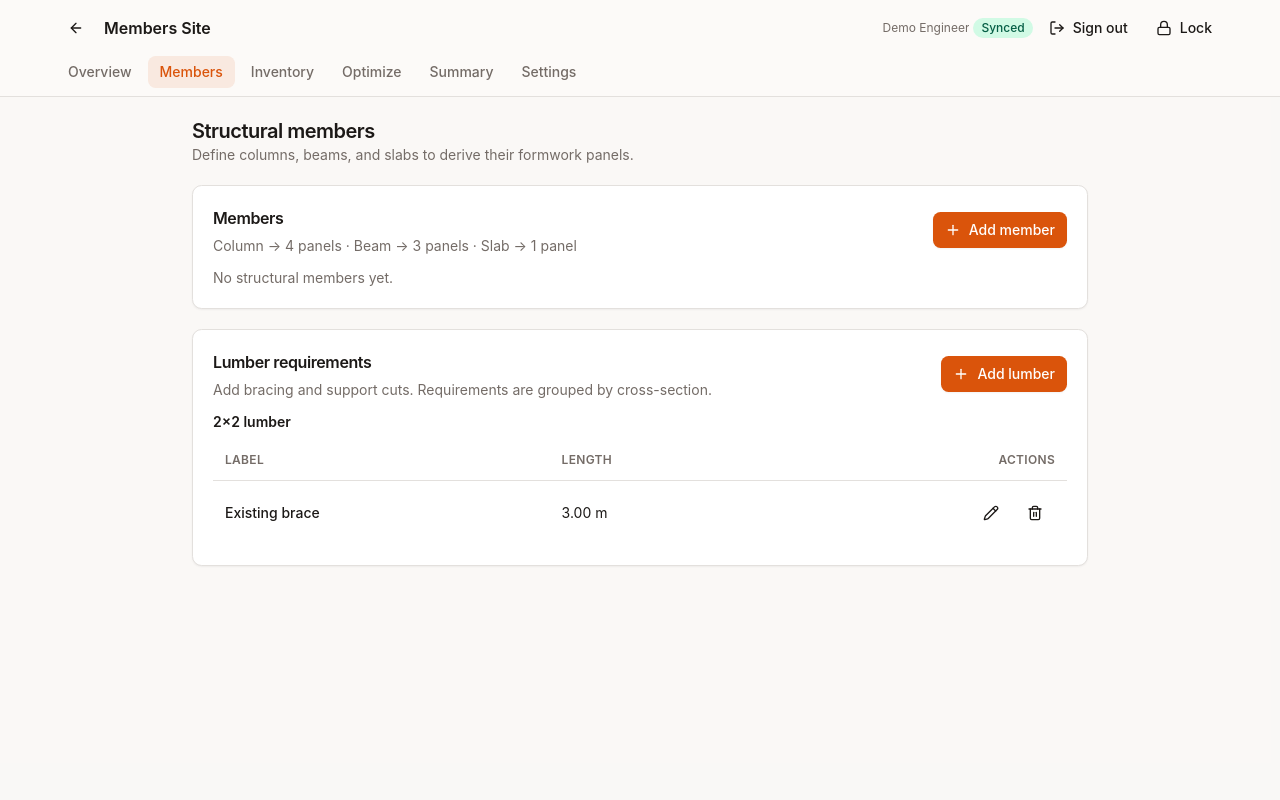
it: StructuralMembersScreen › adds lumber requirements and groups them by cross-section
Expected: the heading "Structural members" is shown, top-left (192, 119), bottom-right (375, 143)
Click the button "Add lumber".
click(1004, 374)  # box top-left (942, 356), bottom-right (1067, 392)
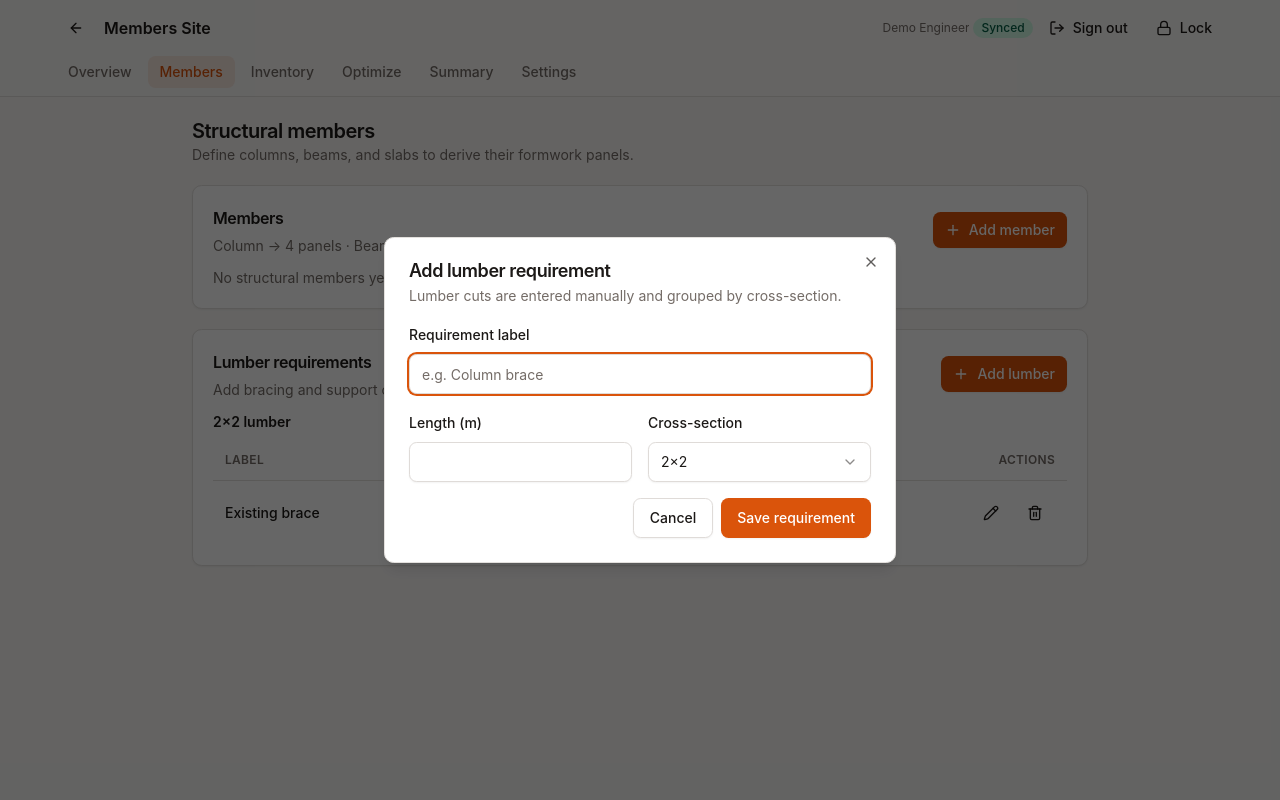
Type "Brace A" into the field labelled "Requirement label".
click(640, 374); type("Brace A")  # box top-left (409, 354), bottom-right (871, 394)
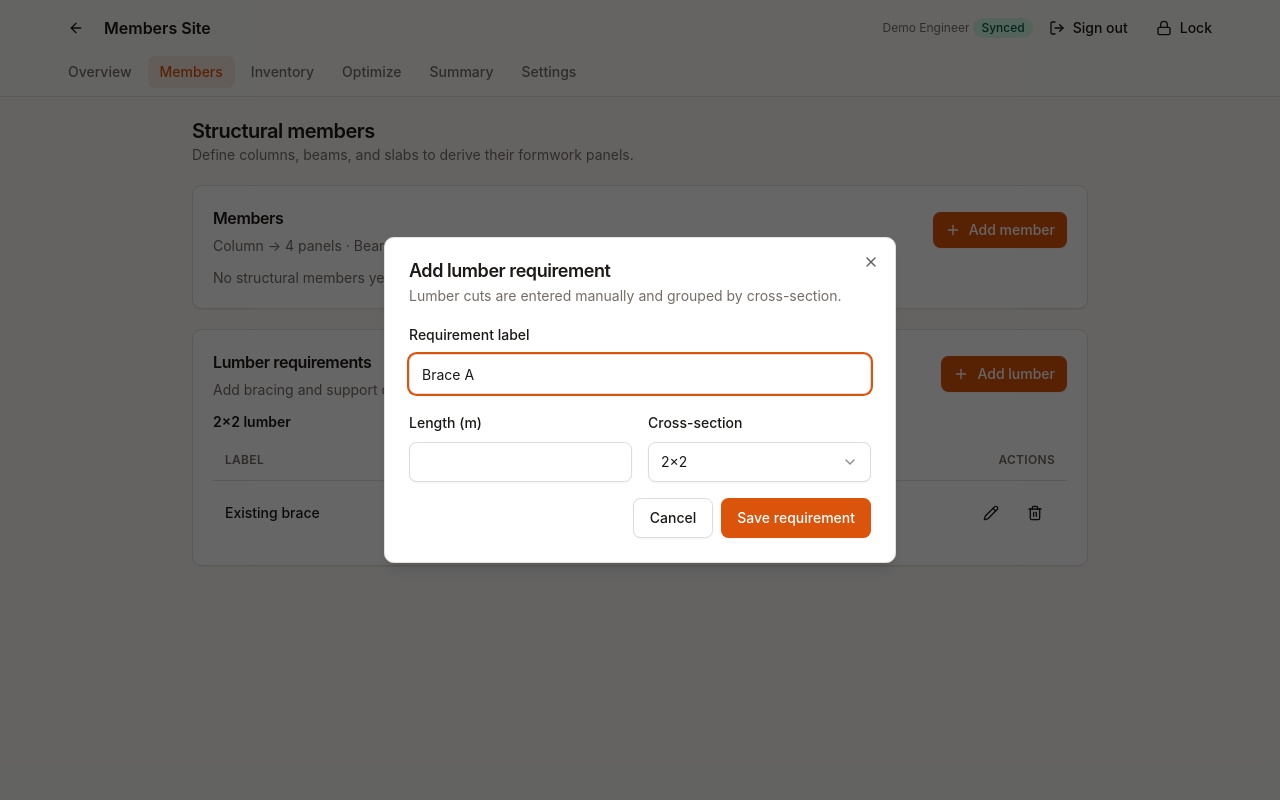
Type "2.4" into the number field labelled "Length (m)".
click(520, 462); type("2.4")  # box top-left (409, 442), bottom-right (632, 482)
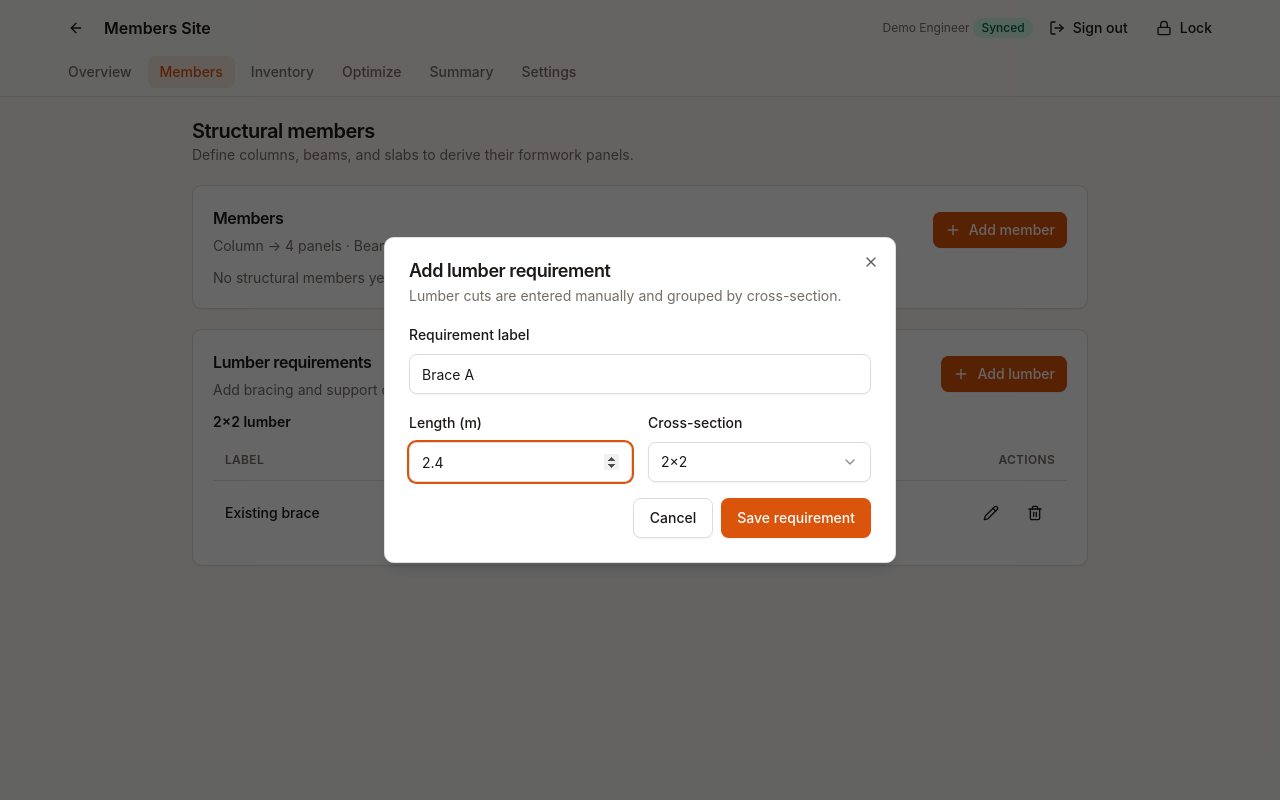
Click the dropdown named "cross-section".
click(760, 462)  # box top-left (648, 442), bottom-right (871, 482)
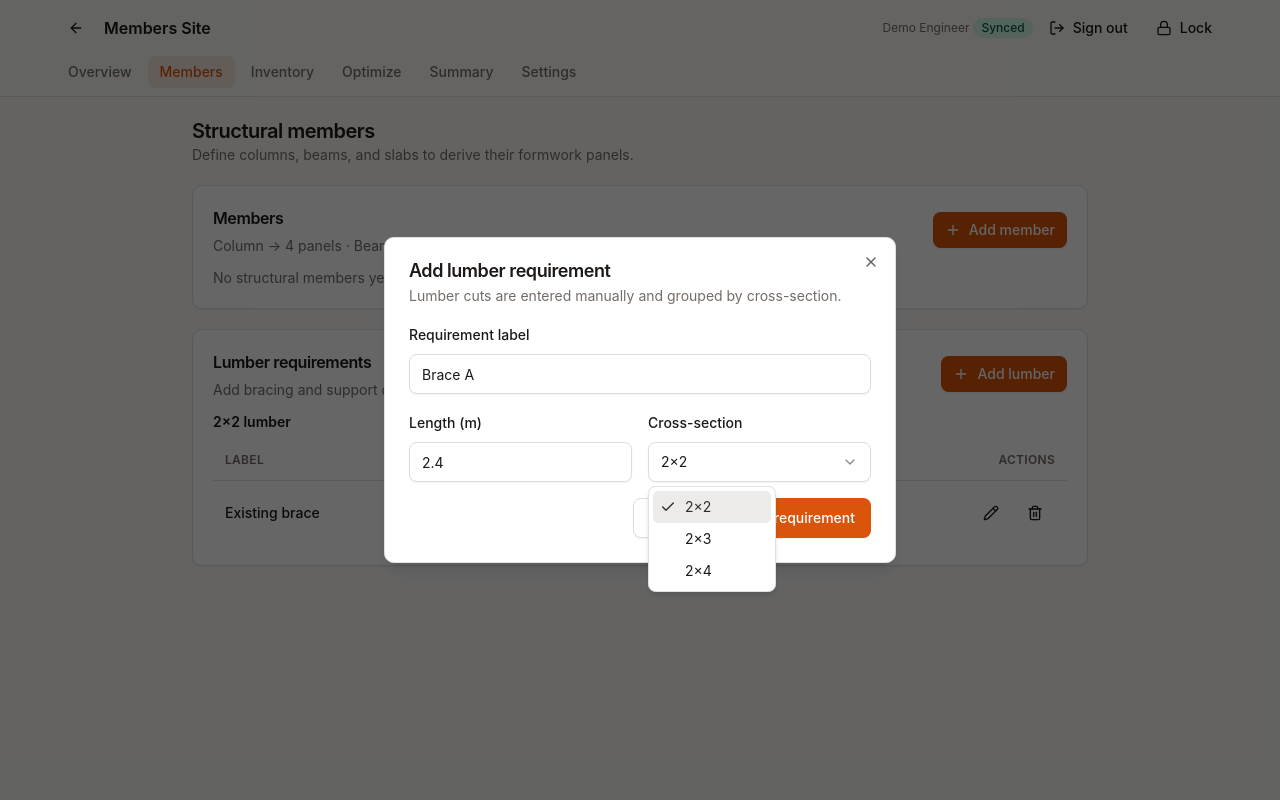
Click the option "2×4".
click(698, 570)  # box top-left (685, 562), bottom-right (712, 579)
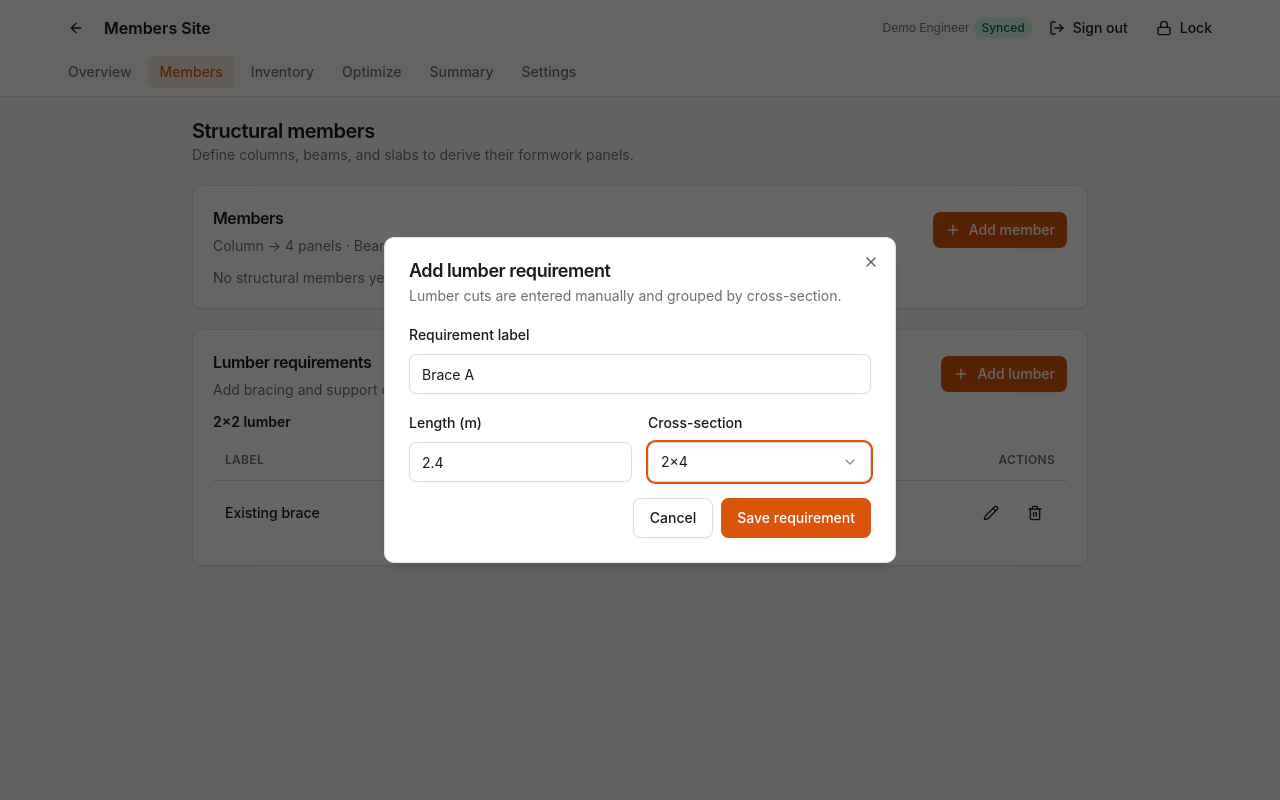
Click the button "Save requirement".
click(796, 518)  # box top-left (721, 498), bottom-right (871, 538)
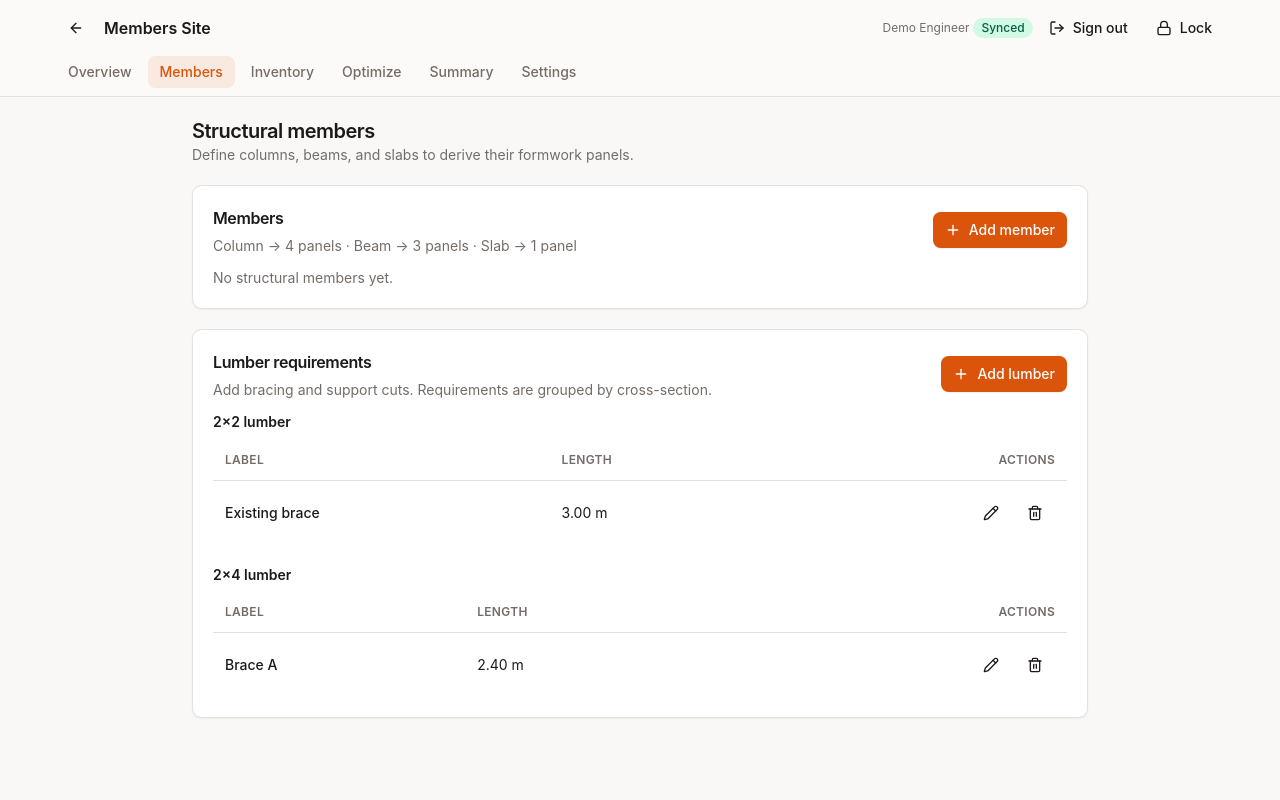
Expected: the heading "2×2 lumber" is shown, top-left (213, 413), bottom-right (291, 430)
Expected: the heading "2×4 lumber" is shown, top-left (213, 566), bottom-right (291, 582)
Expected: the text "Brace A" is shown, top-left (213, 632), bottom-right (465, 697)
